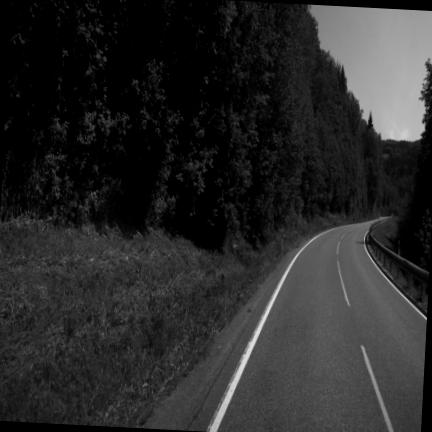Road: (148, 223, 426, 431)
